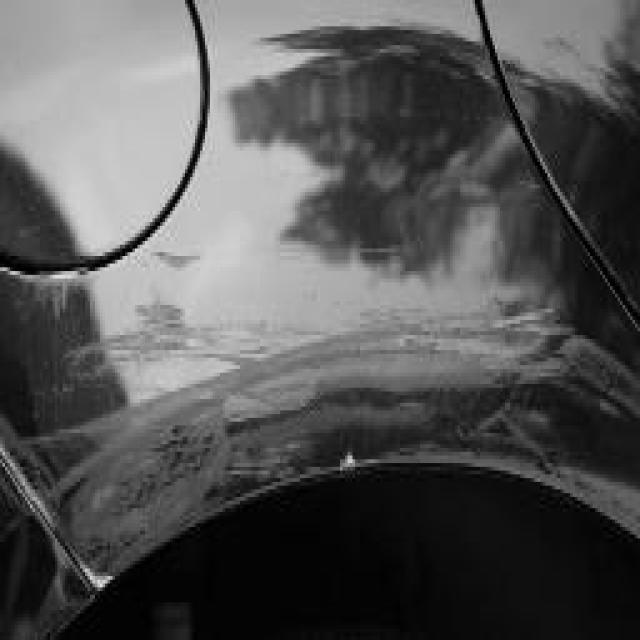Fender: (1, 243, 639, 587)
